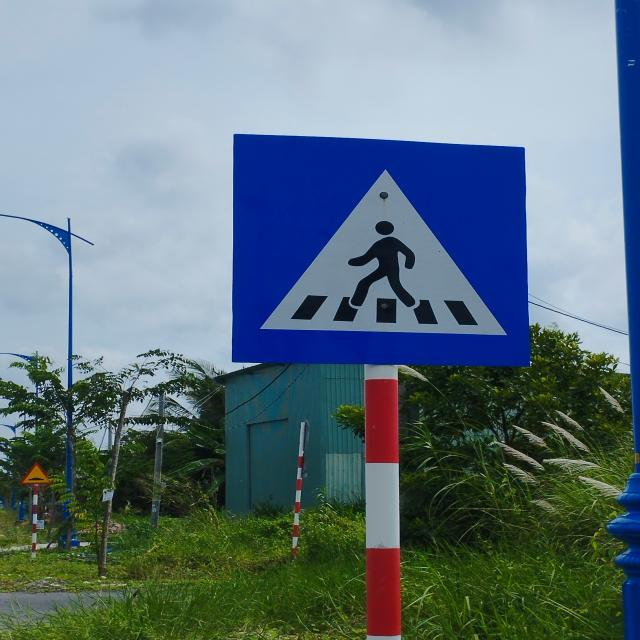Giao_Nhau_Duong_Uu_Tien: (232, 134, 530, 366)
